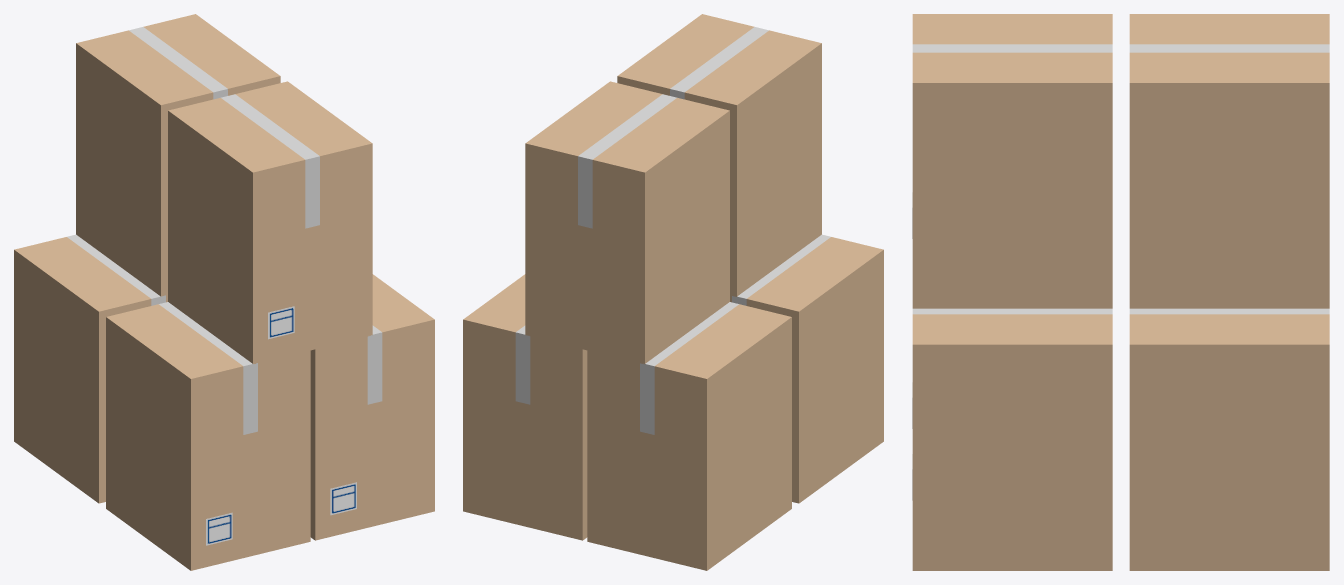
File: carton gros.fbx
3 renders of one model, left to right at view 1: azimuth 30°, elevation 25°; view 2: azimuth 150°, elevation 25°; view 3: azimuth 270°, elevation 25°, orthographic. The views are drawn at different scales.
Parts seen in each view (by area): view 1: carton_gros; view 2: carton_gros; view 3: carton_gros.
Boxes of the visible parts, x1=… form: carton_gros: x1=14, y1=14, x2=434, y2=570; carton_gros: x1=463, y1=14, x2=883, y2=570; carton_gros: x1=912, y1=14, x2=1329, y2=570.
Size of the model in its own units: 2 by 3 by 2.51.
4 materials, 1 textured.
